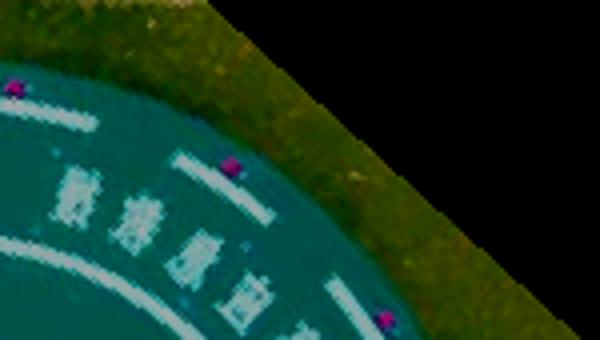Apron: (1, 234, 211, 340)
